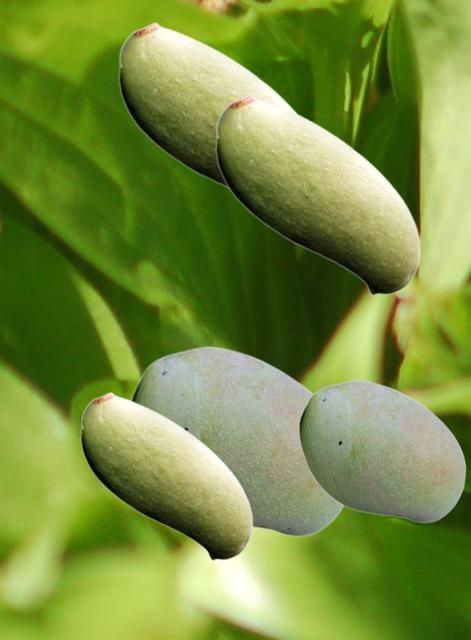green_mango: (215, 93, 420, 295), (130, 345, 344, 536), (118, 21, 297, 190), (80, 391, 252, 560), (298, 379, 465, 522)
